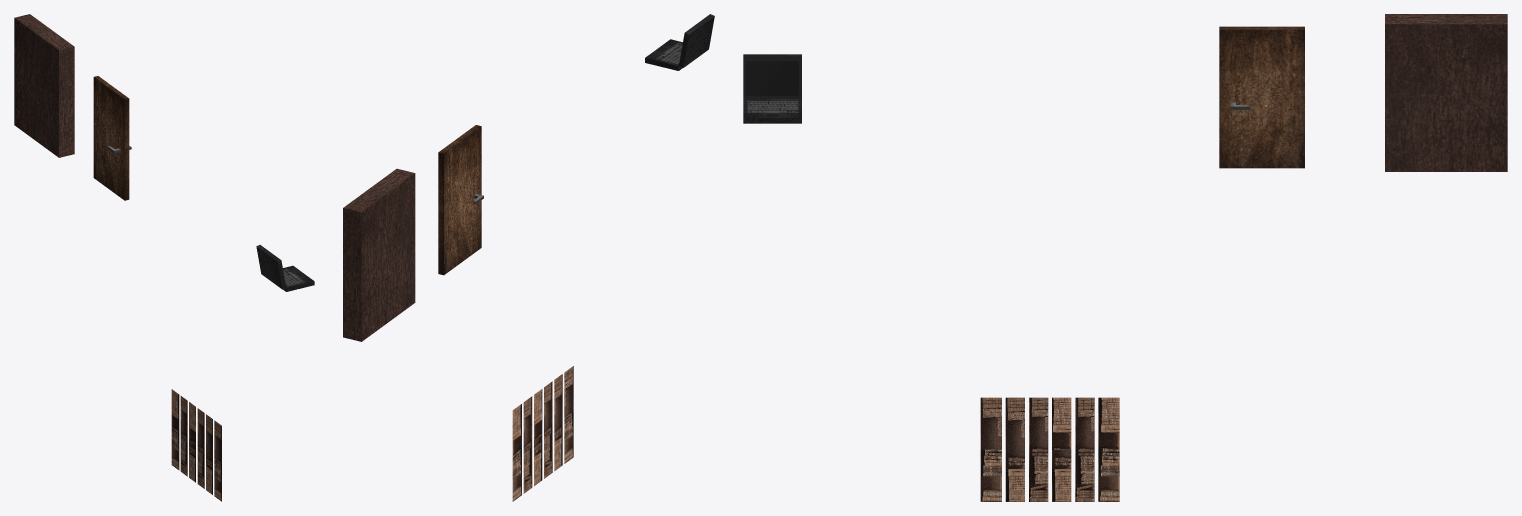
File: fgj_assets1.fbx
The picture shows the model from 3 angles, left to right: view 1: azimuth 30°, elevation 25°; view 2: azimuth 150°, elevation 25°; view 3: azimuth 270°, elevation 25°; orthographic projection. The views are drawn at different scales.
Visible parts, largest first — view 1: prop_bookshelf, prop_door, prop_bookshelf.books.002, prop_bookshelf.books.001, prop_bookshelf.books.003, prop_laptop.top, prop_laptop.bottom; view 2: prop_bookshelf, prop_door, prop_bookshelf.books.002, prop_bookshelf.books.001, prop_bookshelf.books.003, prop_laptop.top, prop_laptop.bottom; view 3: prop_bookshelf, prop_door, prop_bookshelf.books.002, prop_bookshelf.books.003, prop_bookshelf.books.001, prop_laptop.top, prop_laptop.bottom.
Boxes of the visible parts, bbox=[...] form: prop_bookshelf: bbox=[14, 14, 74, 157]; prop_door: bbox=[93, 76, 131, 200]; prop_bookshelf.books.002: bbox=[171, 389, 221, 501]; prop_bookshelf.books.001: bbox=[180, 396, 204, 488]; prop_bookshelf.books.003: bbox=[189, 414, 221, 494]; prop_laptop.top: bbox=[256, 245, 286, 289]; prop_laptop.bottom: bbox=[283, 265, 314, 291]; prop_bookshelf: bbox=[343, 168, 415, 341]; prop_door: bbox=[438, 125, 483, 275]; prop_bookshelf.books.002: bbox=[512, 389, 573, 501]; prop_bookshelf.books.001: bbox=[523, 381, 552, 493]; prop_bookshelf.books.003: bbox=[534, 366, 573, 485]; prop_laptop.top: bbox=[679, 14, 714, 67]; prop_laptop.bottom: bbox=[645, 39, 682, 70]; prop_bookshelf: bbox=[1385, 14, 1507, 171]; prop_door: bbox=[1219, 26, 1304, 168]; prop_bookshelf.books.002: bbox=[980, 397, 1119, 501]; prop_bookshelf.books.003: bbox=[980, 397, 1071, 501]; prop_bookshelf.books.001: bbox=[1029, 397, 1094, 501]; prop_laptop.top: bbox=[743, 54, 801, 98]; prop_laptop.bottom: bbox=[743, 99, 801, 123].
Size of the model in its own units: 95.41 by 860 by 1248.
7 materials, 7 textured.
